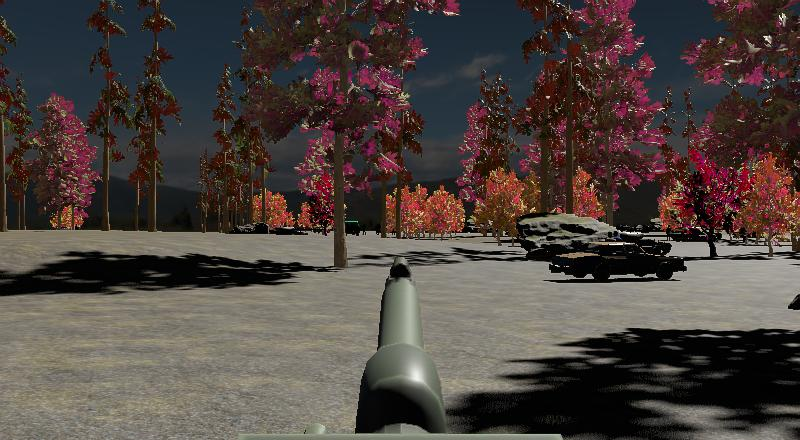Tank: (615, 228, 679, 257)
car: (544, 239, 691, 284)
